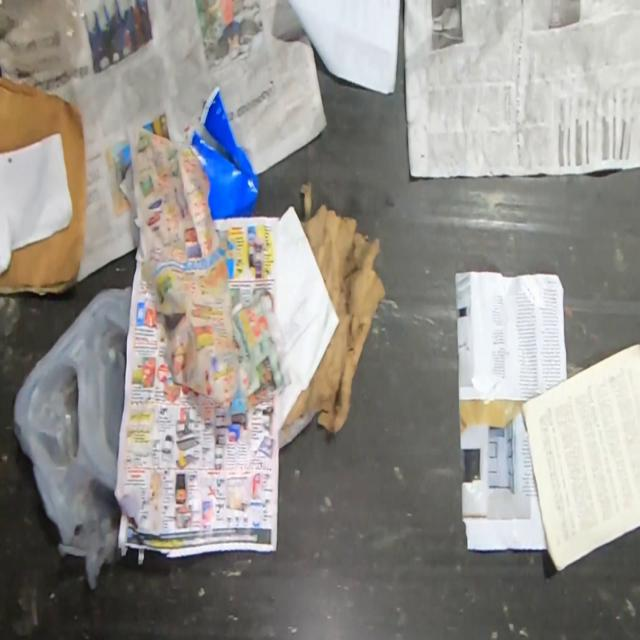cardboard: (280, 182, 386, 434), (0, 68, 90, 298)
rigid_plastic: (13, 285, 133, 591), (187, 87, 260, 220), (0, 0, 87, 91)
